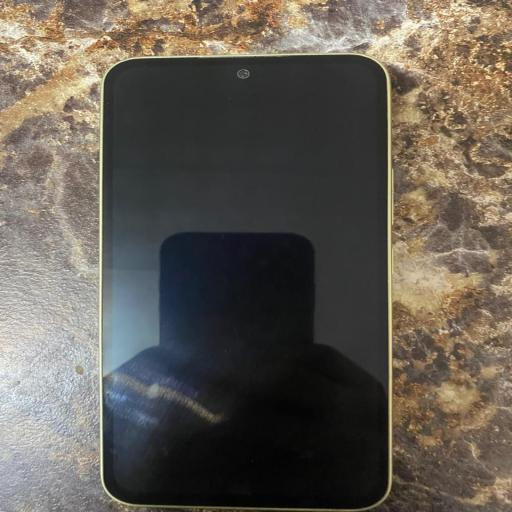people: (101, 54, 391, 509)
